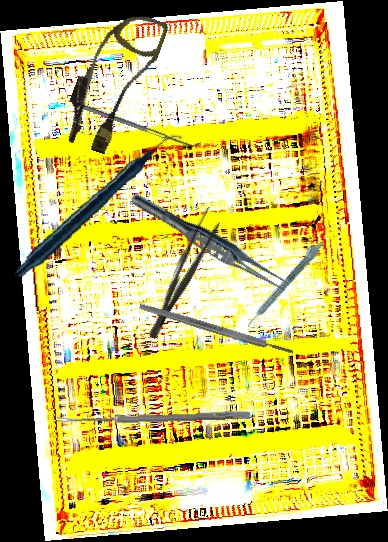Cannula: (56, 1, 170, 161)
Dressing Forceps: (142, 204, 226, 344)
Handpiece: (2, 133, 196, 280), (240, 236, 327, 329)
Scalpel Handle: (138, 301, 295, 357)
Spatula Surgical: (81, 99, 202, 152)
Surgical Spoon: (56, 409, 251, 426)
Tissue Forceps: (125, 188, 296, 298)
